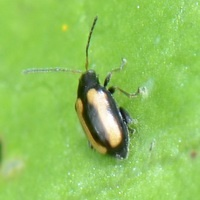insect: (75, 16, 133, 158)
